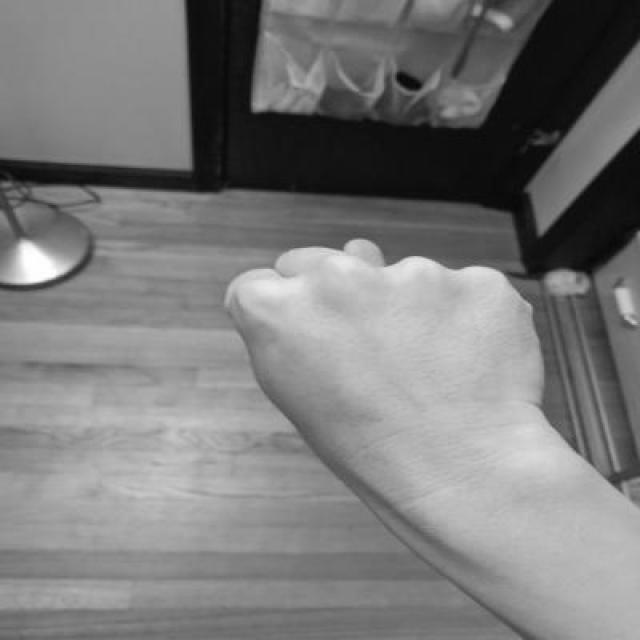N: (215, 231, 564, 468)
